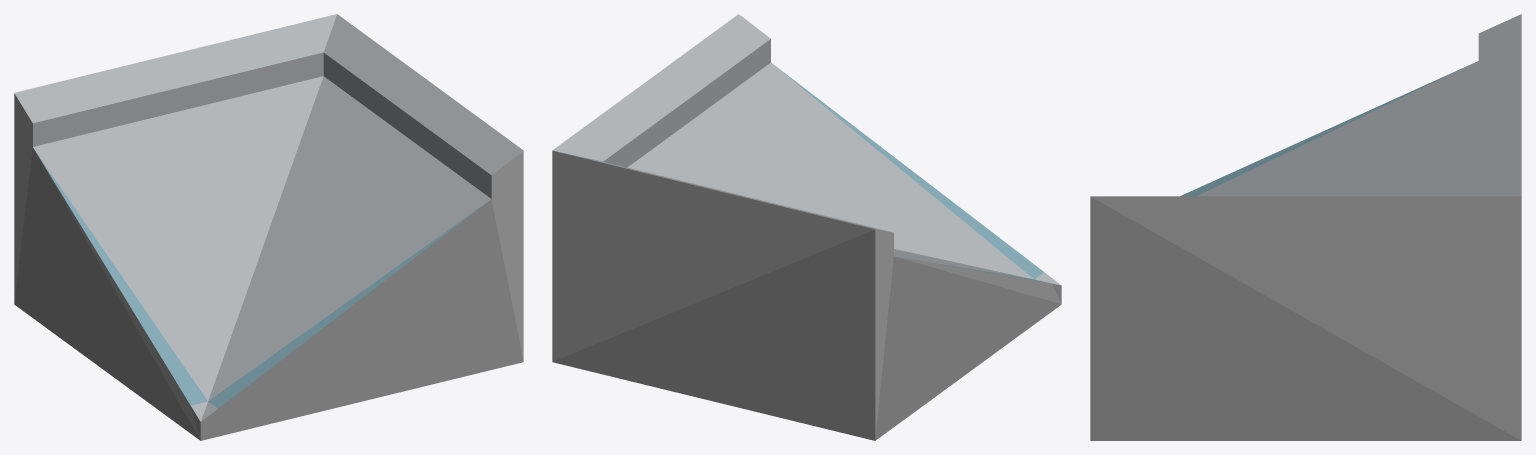
3 views of the same model, side by side, from view 1: azimuth 30°, elevation 25°; view 2: azimuth 150°, elevation 25°; view 3: azimuth 270°, elevation 25° (orthographic). The views are drawn at different scales.
Parts seen in each view (by area): view 1: model; view 2: model; view 3: model.
Part boxes in pixels (x1=…): model: x1=14, y1=14, x2=523, y2=440; model: x1=552, y1=14, x2=1061, y2=440; model: x1=1090, y1=14, x2=1521, y2=440.
Size of the model in its own units: 2 by 1.25 by 2.
